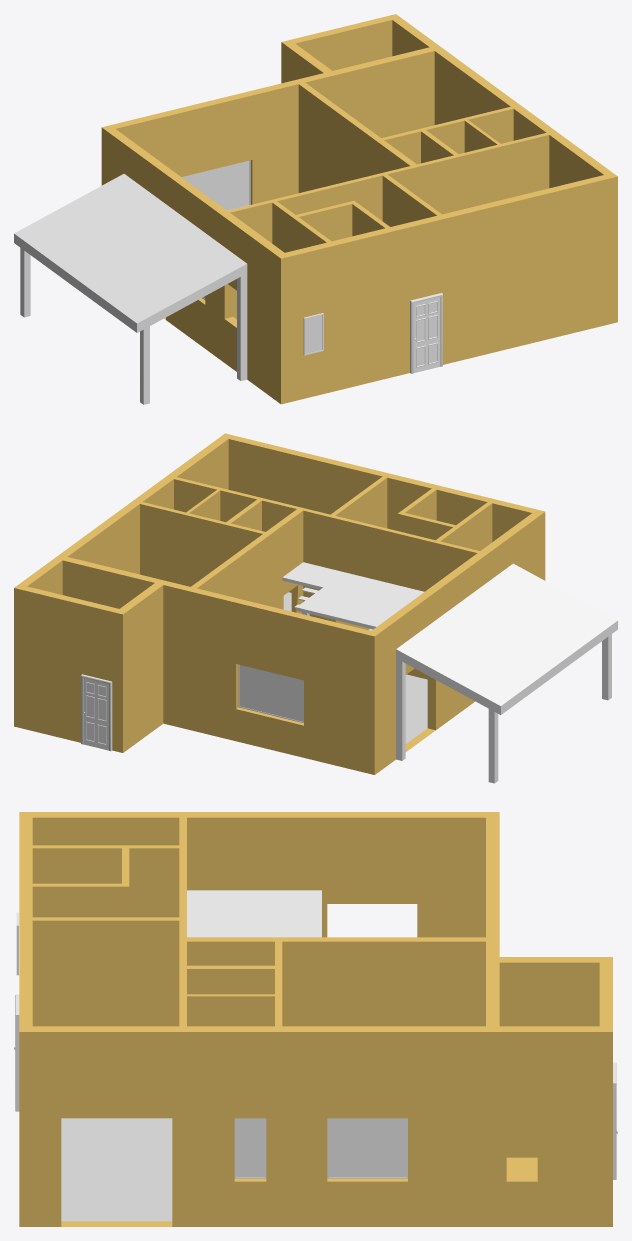
Rendered from villa.gltf.
3 renders of one model, top to bottom at view 1: azimuth 30°, elevation 25°; view 2: azimuth 150°, elevation 25°; view 3: azimuth 270°, elevation 25°, orthographic. The views are drawn at different scales.
Visible parts, largest first — view 1: finestra_anta_singola.5-Mat.3, finestra_anta_singola.5; view 2: finestra_anta_singola.5-Mat.3, finestra_anta_singola.5, finestra_anta_singola.5-Mat.4; view 3: finestra_anta_singola.5-Mat.3, finestra_anta_singola.5, finestra_anta_singola.5-Mat.4.
Part boxes in pixels (bbox=[...]): finestra_anta_singola.5-Mat.3: bbox=[101, 14, 617, 404]; finestra_anta_singola.5: bbox=[14, 160, 442, 404]; finestra_anta_singola.5-Mat.3: bbox=[14, 433, 545, 774]; finestra_anta_singola.5: bbox=[81, 562, 617, 783]; finestra_anta_singola.5-Mat.4: bbox=[283, 592, 427, 743]; finestra_anta_singola.5-Mat.3: bbox=[19, 812, 612, 1226]; finestra_anta_singola.5: bbox=[14, 890, 617, 1179]; finestra_anta_singola.5-Mat.4: bbox=[61, 1118, 172, 1221].
Size of the model in its own units: 1380 by 430 by 1207.
